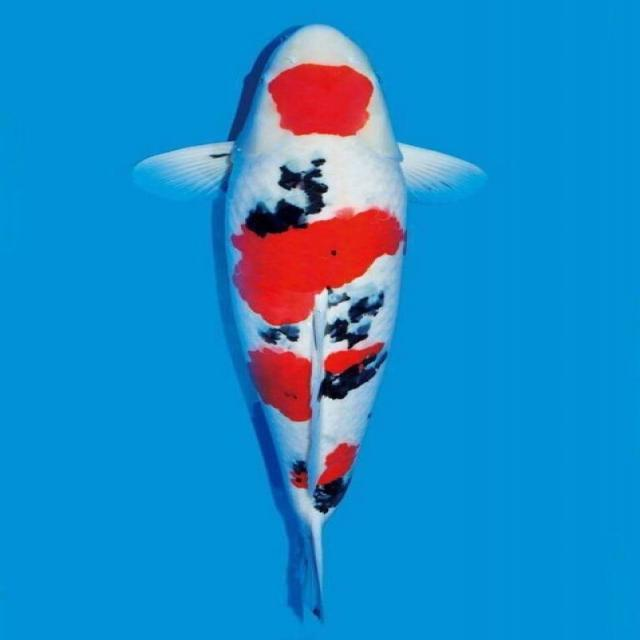Sanke: (130, 22, 487, 624)
